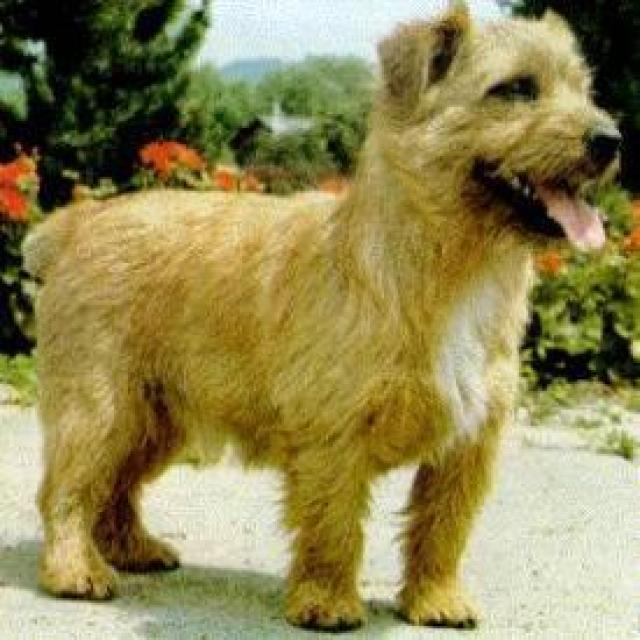dogs: (63, 17, 601, 608)
